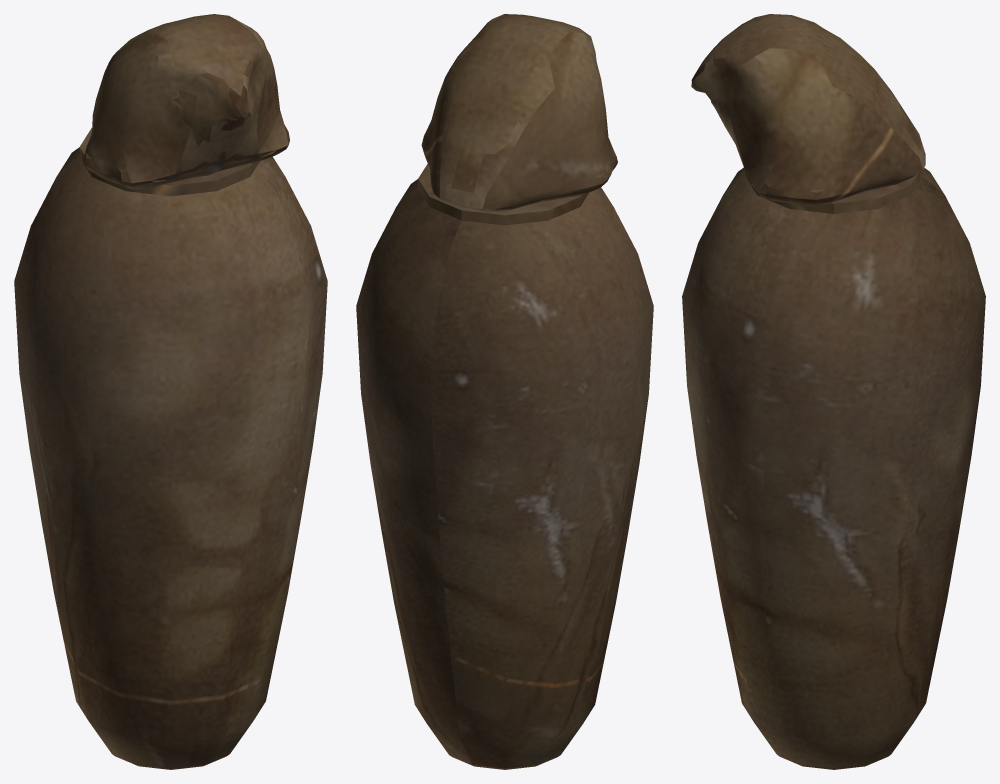
File: Puzzle 6 Jar Qebehsenuef.fbx
The picture shows the model from 3 angles, left to right: view 1: azimuth 30°, elevation 25°; view 2: azimuth 150°, elevation 25°; view 3: azimuth 270°, elevation 25°; orthographic projection. The views are drawn at different scales.
Visible parts, largest first — view 1: Puzzle 6 Jar Qebehsenuef; view 2: Puzzle 6 Jar Qebehsenuef; view 3: Puzzle 6 Jar Qebehsenuef.
Boxes of the visible parts, left/top/right/bottom form: Puzzle 6 Jar Qebehsenuef: left=14, top=14, right=327, bottom=769; Puzzle 6 Jar Qebehsenuef: left=356, top=14, right=653, bottom=769; Puzzle 6 Jar Qebehsenuef: left=682, top=14, right=985, bottom=769.
Size of the model in its own units: 99.12 by 258 by 99.12.
